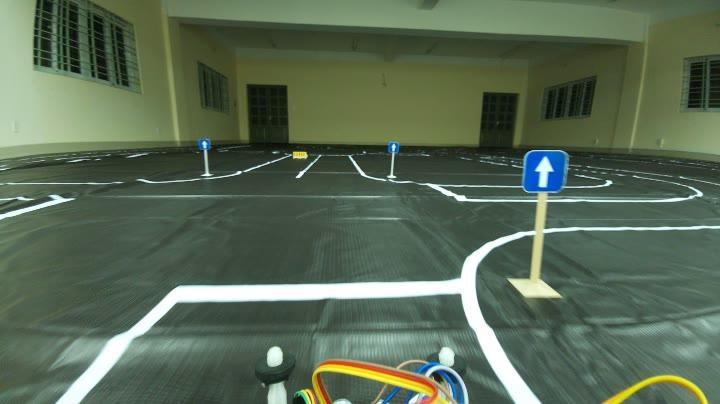onewayroad: (518, 150, 565, 196), (195, 136, 211, 152), (385, 141, 405, 153)
roadblock: (292, 152, 308, 161)
